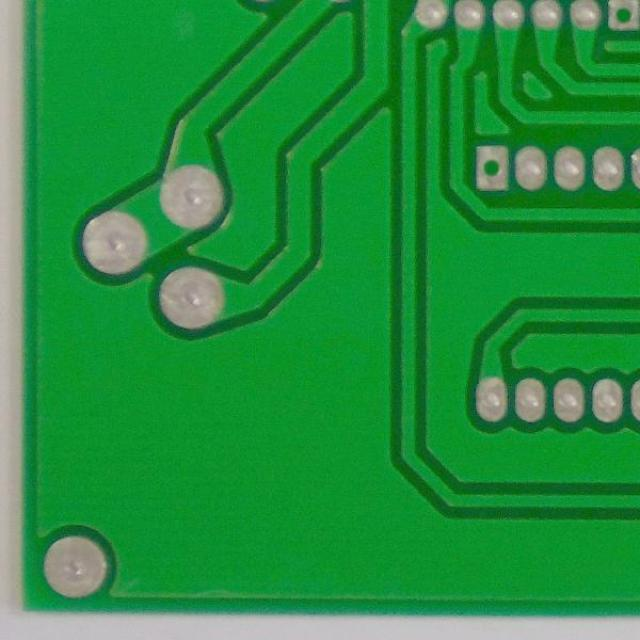Missing_Hole: (467, 141, 514, 194), (602, 0, 639, 34)
